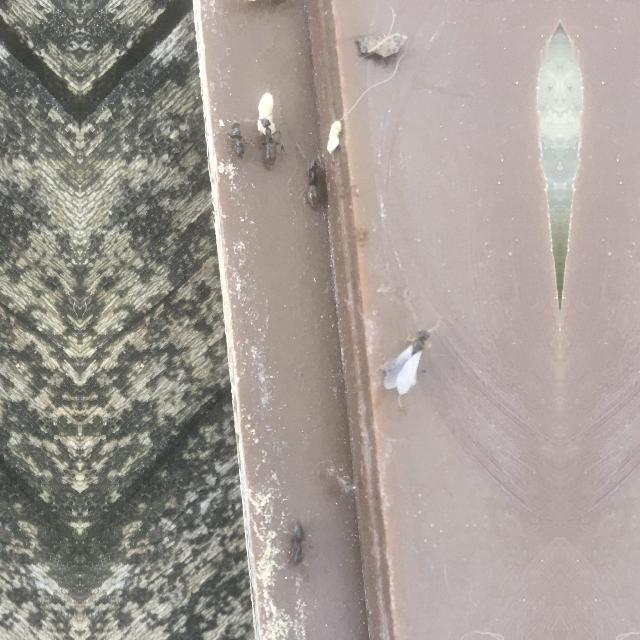Tapinoma: (385, 314, 437, 396), (252, 98, 282, 170), (315, 459, 359, 499), (296, 156, 324, 214), (285, 516, 309, 568), (225, 118, 249, 166)
